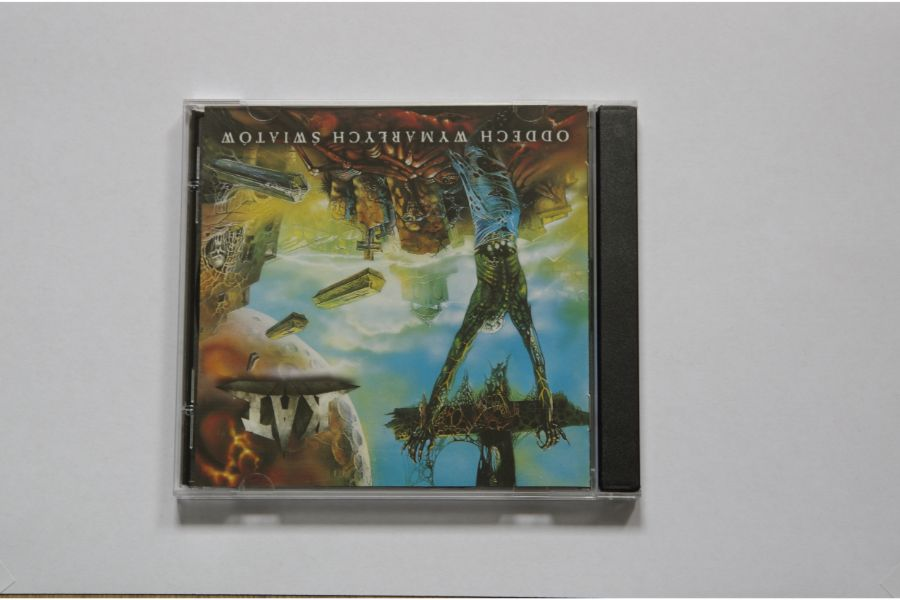album: (176, 99, 642, 497)
